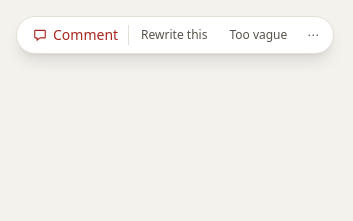
it: CommentForm selection pill › overflow tap lists the remaining templates in place; picking one prefills the form
What coordinates should you click on to do the following:
click the button named "More templates"
I would click on:
 (313, 35)
Its box is [299,23,327,47].
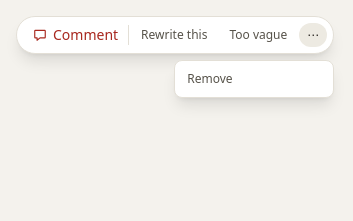
Result: the element showing "Remove" is shown at [174,60,334,98]
What coordinates should you click on to do the following:
click the button "Remove"
I would click on:
 (254, 79)
Its box is [175,65,333,93].
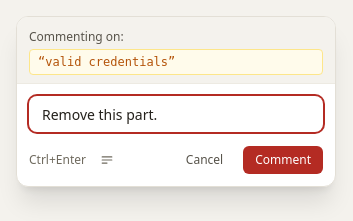
Result: the text box with placeholder "Add your comment..." is not empty at [29,96,323,132]
